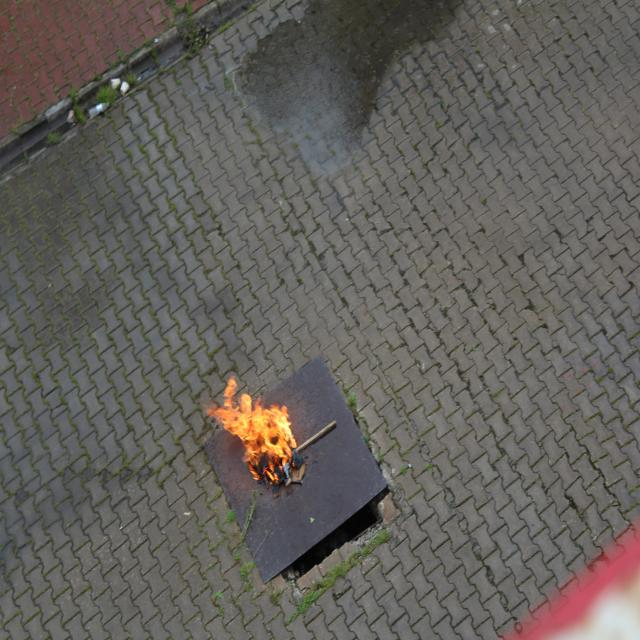fire: (211, 371, 305, 498)
